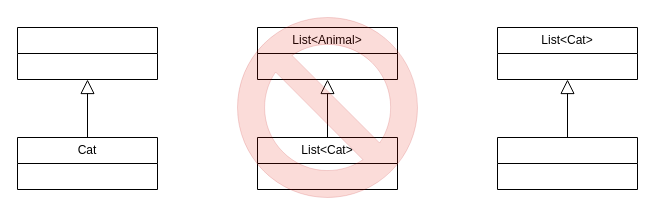
The diagram is 655 pixels wide and 215 high, and some of its shapes have lost their labels. Each missing label, with the centre of its shape:
"Animal" goes at (87,53).
"ArrayList<Cat>" goes at (567,163).
